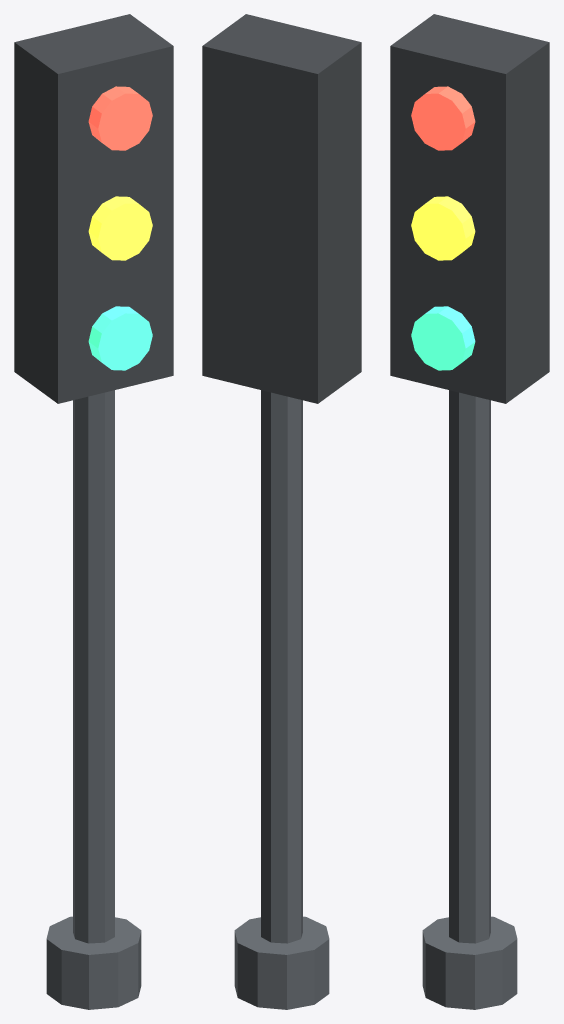
File: traffic_light.glb
3 renders of one model, left to right at view 1: azimuth 30°, elevation 25°; view 2: azimuth 150°, elevation 25°; view 3: azimuth 330°, elevation 25°, orthographic.
Parts seen in each view (by area): view 1: traffic_light_body, light_green, light_yellow, light_red; view 2: traffic_light_body; view 3: traffic_light_body, light_green, light_yellow, light_red.
Boxes of the visible parts, x1,y1,x2,y2 form: traffic_light_body: [14, 14, 173, 1009]; light_green: [88, 306, 152, 370]; light_yellow: [88, 196, 152, 260]; light_red: [88, 86, 152, 150]; traffic_light_body: [202, 14, 361, 1009]; traffic_light_body: [390, 14, 549, 1009]; light_green: [411, 306, 475, 370]; light_yellow: [411, 196, 475, 260]; light_red: [411, 86, 475, 150].
Size of the model in its own units: 0.55 by 4.3 by 0.46.
